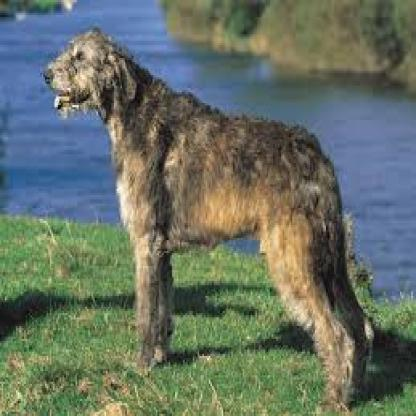Irish Wolfhound: (40, 16, 382, 410)
